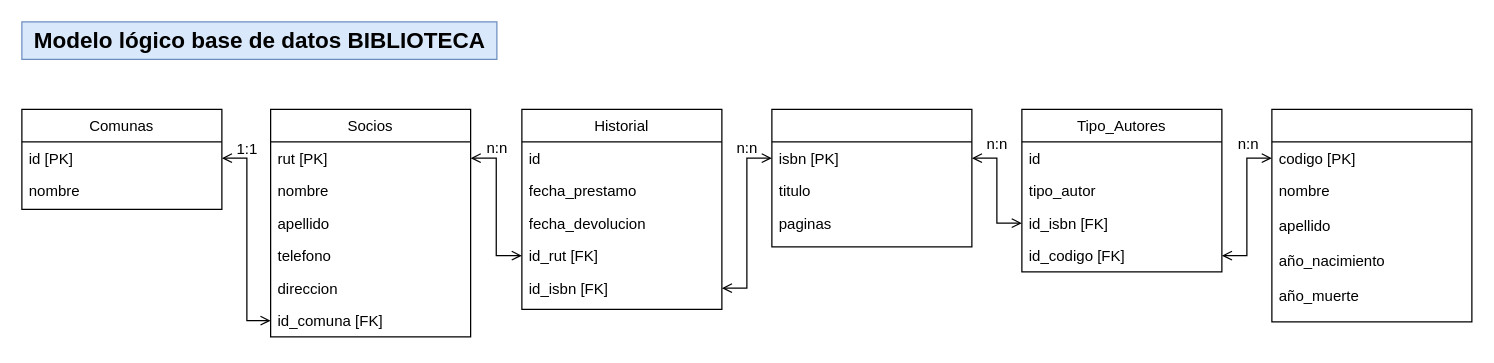
Some shapes in this 1494 by 363 pixel diagram are drawn without their labels. The shapes that lost their labels are listed below. From the top down, each one's box as (x1, y1, x2, y2) in pixels, then its label:
(771, 108, 972, 247): Libros
(1271, 108, 1472, 322): Autores
